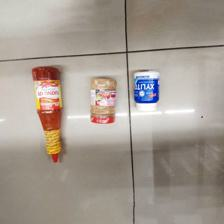Hao_hao: (85, 74, 119, 125)
Tuong: (32, 66, 70, 165)
Xylitol_blue: (130, 68, 162, 115)
